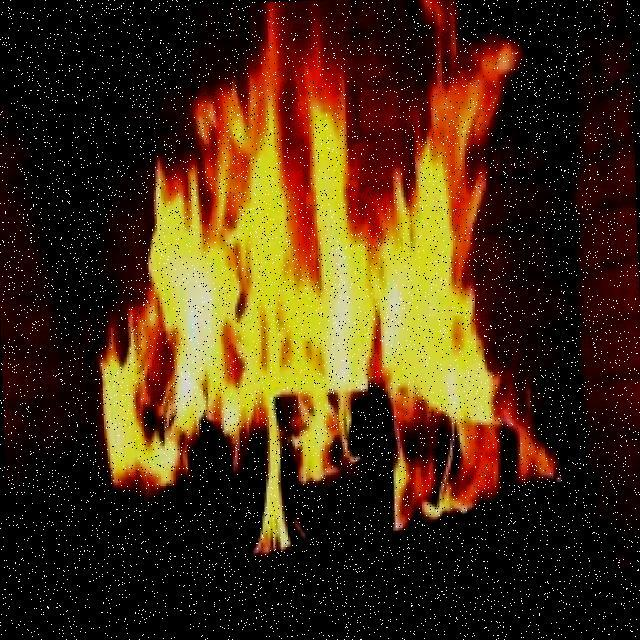Fire: (126, 82, 504, 492)
